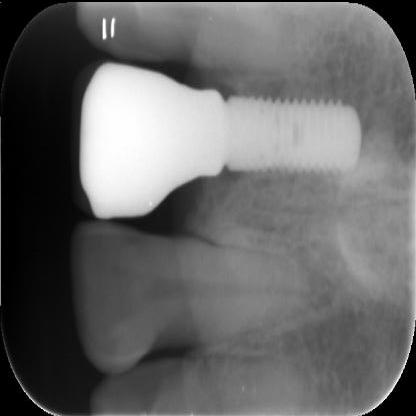ITI: (224, 80, 364, 182)
